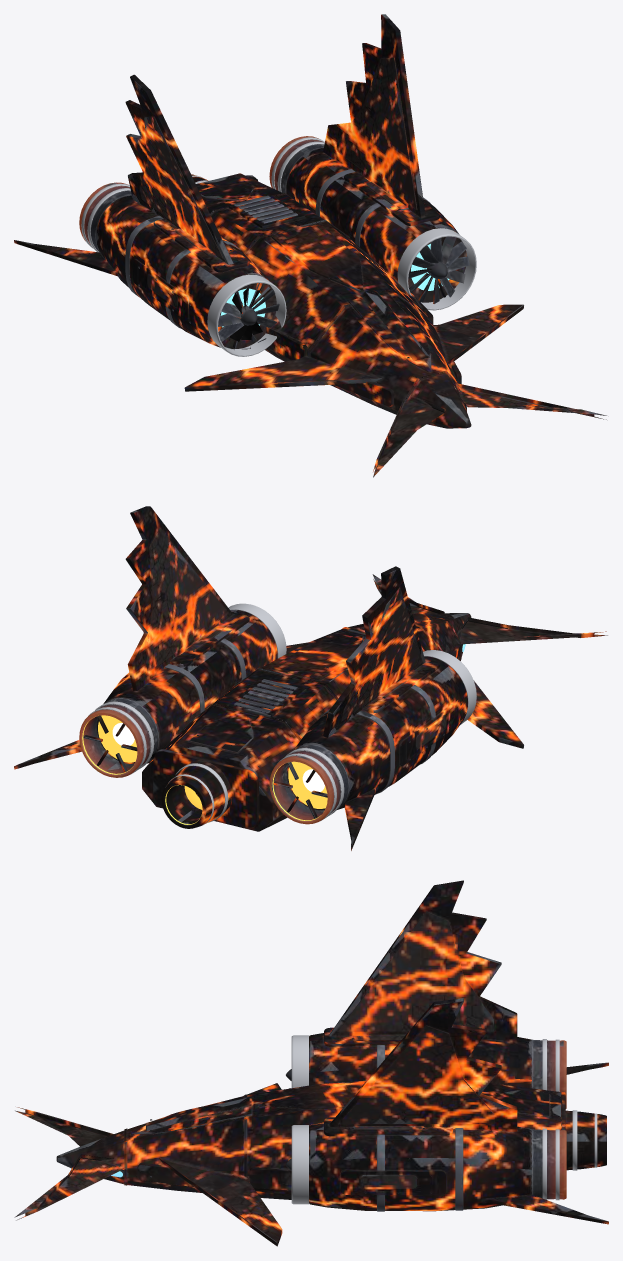
The model's file is ember.glb.
The picture shows the model from 3 angles, top to bottom: view 1: azimuth 30°, elevation 25°; view 2: azimuth 150°, elevation 25°; view 3: azimuth 270°, elevation 25°; orthographic projection. The views are drawn at different scales.
Parts seen in each view (by area): view 1: ember_body, ember_steel, fan_L, fan_R, ember_emissive; view 2: ember_body, ember_steel, ember_emissive; view 3: ember_body, ember_steel.
Boxes of the visible parts, x1,y1,x2,y2 form: ember_body: (14,14,606,477); ember_steel: (81,137,476,356); fan_L: (408,236,469,303); fan_R: (218,283,279,349); ember_emissive: (220,243,466,406); ember_body: (14,506,607,850); ember_steel: (88,603,476,825); ember_emissive: (82,644,465,824); ember_body: (14,880,608,1246); ember_steel: (291,1035,597,1204).
Size of the model in its own units: 3 by 2.05 by 4.71.
Materials: 6 (2 with a texture image).
